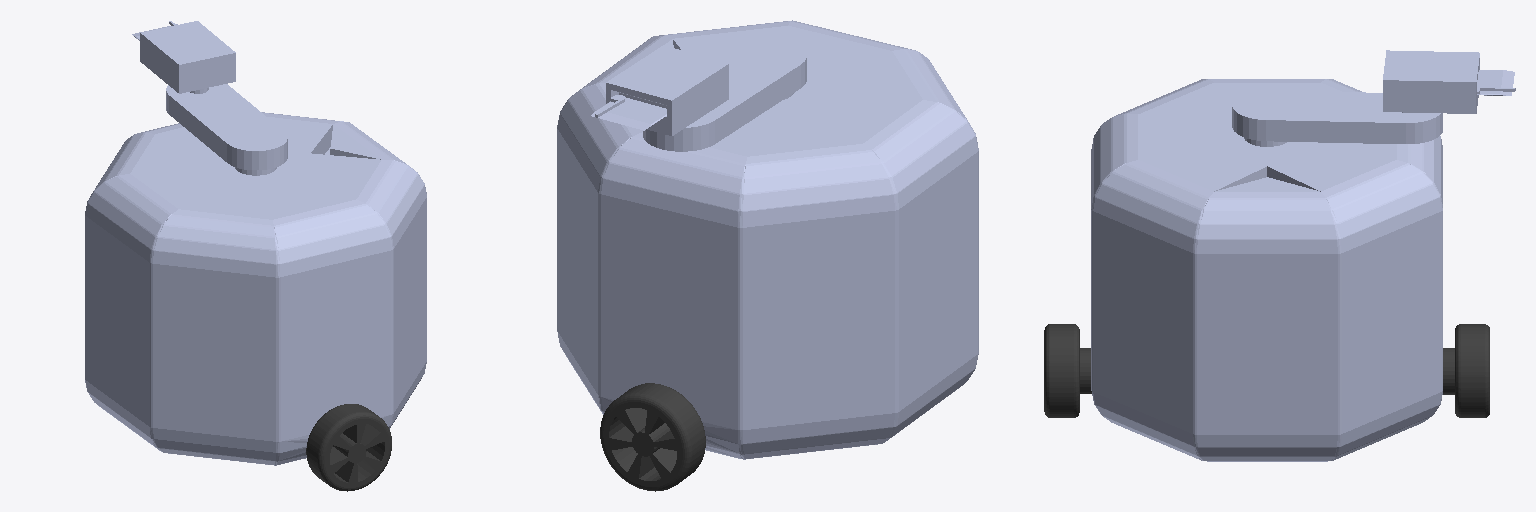
robot.urdf — robo9:
<?xml version="1.0" encoding="utf-8"?>
<!-- This URDF was automatically created by SolidWorks to URDF Exporter! Originally created by [author] ([email redacted]) 
     Commit Version: 1.6.0-4-g7f85cfe  Build Version: 1.6.7995.38578
     For more information, please see http://wiki.ros.org/sw_urdf_exporter -->
<robot
  name="robo9">
  <link name="dummy_link" />

  <joint name="dummy_link_to_base_link" type="fixed">
    <parent link="dummy_link"/>
    <child link="base_link"/>
  </joint>
  <link
    name="base_link">
    <inertial>
      <origin
        xyz="-0.000234166671283786 0 0.341965241299168"
        rpy="0 0 0" />
      <mass
        value="291.564682437976" />
      <inertia
        ixx="20.0527856871514"
        ixy="-7.50635775529426E-06"
        ixz="0.0200068652527846"
        iyy="20.1739356871347"
        iyz="-2.14957033006662E-15"
        izz="21.8510802863288" />
    </inertial>
    <visual>
      <origin
        xyz="0 0 0"
        rpy="0 0 0" />
      <geometry>
        <mesh
          filename="package://robo9/meshes/base_link.STL" />
      </geometry>
      <material
        name="">
        <color
          rgba="0.792156862745098 0.819607843137255 0.933333333333333 1" />
      </material>
    </visual>
    <collision>
      <origin
        xyz="0 0 0"
        rpy="0 0 0" />
      <geometry>
        <mesh
          filename="package://robo9/meshes/base_link.STL" />
      </geometry>
    </collision>
  </link>
  <link
    name="left_wheel">
    <inertial>
      <origin
        xyz="0 -5.55111512312578E-17 -0.896942402108544"
        rpy="0 0 0" />
      <mass
        value="2.42815284027599" />
      <inertia
        ixx="0.00682217388768063"
        ixy="-1.15245136693123E-18"
        ixz="6.54305795555698E-19"
        iyy="0.00682217388768063"
        iyz="1.50075961333382E-19"
        izz="0.0107400873808283" />
    </inertial>
    <visual>
      <origin
        xyz="0 0 0"
        rpy="0 0 0" />
      <geometry>
        <mesh
          filename="package://robo9/meshes/left_wheel.STL" />
      </geometry>
      <material
        name="">
        <color
          rgba="0.298039215686275 0.298039215686275 0.298039215686275 1" />
      </material>
    </visual>
    <collision>
      <origin
        xyz="0 0 0"
        rpy="0 0 0" />
      <geometry>
        <mesh
          filename="package://robo9/meshes/left_wheel.STL" />
      </geometry>
    </collision>
  </link>
  <joint
    name="left_wheel_joint"
    type="continuous">
    <origin
      xyz="0 0.482600000000004 0.1016"
      rpy="-1.5707963267949 0 0" />
    <parent
      link="base_link" />
    <child
      link="left_wheel" />
    <axis
      xyz="0 0 1" />
  </joint>
  <link
    name="right_wheel">
    <inertial>
      <origin
        xyz="-2.22044604925031E-16 0 -0.896942402108544"
        rpy="0 0 0" />
      <mass
        value="2.42815284027599" />
      <inertia
        ixx="0.00682217388768063"
        ixy="-1.88032045455964E-18"
        ixz="-3.31900532483183E-20"
        iyy="0.00682217388768064"
        iyz="-9.58168820167435E-20"
        izz="0.0107400873808283" />
    </inertial>
    <visual>
      <origin
        xyz="0 0 0"
        rpy="0 0 0" />
      <geometry>
        <mesh
          filename="package://robo9/meshes/right_wheel.STL" />
      </geometry>
      <material
        name="">
        <color
          rgba="0.298039215686275 0.298039215686275 0.298039215686275 1" />
      </material>
    </visual>
    <collision>
      <origin
        xyz="0 0 0"
        rpy="0 0 0" />
      <geometry>
        <mesh
          filename="package://robo9/meshes/right_wheel.STL" />
      </geometry>
    </collision>
  </link>
  <joint
    name="right_wheel_joint"
    type="continuous">
    <origin
      xyz="0 -0.482600000000004 0.1016"
      rpy="1.5707963267949 0 0" />
    <parent
      link="base_link" />
    <child
      link="right_wheel" />
    <axis
      xyz="0 0 -1" />
  </joint>
  <link
    name="base_to_first_link">
    <inertial>
      <origin
        xyz="-5.55111512312578E-17 -1.11022302462516E-16 -0.1524"
        rpy="0 0 0" />
      <mass
        value="2.47111103406268" />
      <inertia
        ixx="0.0207254059315664"
        ixy="-1.54905385393866E-19"
        ixz="-1.83677921854158E-34"
        iyy="0.0207254059315664"
        iyz="-6.88468379528296E-20"
        izz="0.00318852398947175" />
    </inertial>
    <visual>
      <origin
        xyz="0 0 0"
        rpy="0 0 0" />
      <geometry>
        <mesh
          filename="package://robo9/meshes/base_to_first_link.STL" />
      </geometry>
      <material
        name="">
        <color
          rgba="0.792156862745098 0.819607843137255 0.933333333333333 1" />
      </material>
    </visual>
    <collision>
      <origin
        xyz="0 0 0"
        rpy="0 0 0" />
      <geometry>
        <mesh
          filename="package://robo9/meshes/base_to_first_link.STL" />
      </geometry>
    </collision>
  </link>
  <joint
    name="base_to_first_link_joint"
    type="fixed">
    <origin
      xyz="0 0 0.7112"
      rpy="0 0 0" />
    <parent
      link="base_link" />
    <child
      link="base_to_first_link" />
    <axis
      xyz="0 0 0" />
  </joint>
  <link
    name="first_link">
    <inertial>
      <origin
        xyz="0.00887202489217992 0.166951784287116 -1.02122346670472"
        rpy="0 0 0" />
      <mass
        value="3.1834408940209" />
      <inertia
        ixx="0.0478820519866207"
        ixy="-0.00218702423761148"
        ixz="-1.49937532359432E-05"
        iyy="0.00684333918252238"
        iyz="-0.000282149101960674"
        izz="0.0528634241141966" />
    </inertial>
    <visual>
      <origin
        xyz="0 0 0"
        rpy="0 0 0" />
      <geometry>
        <mesh
          filename="package://robo9/meshes/first_link.STL" />
      </geometry>
      <material
        name="">
        <color
          rgba="0.792156862745098 0.819607843137255 0.933333333333333 1" />
      </material>
    </visual>
    <collision>
      <origin
        xyz="0 0 0"
        rpy="0 0 0" />
      <geometry>
        <mesh
          filename="package://robo9/meshes/first_link.STL" />
      </geometry>
    </collision>
  </link>
  <joint
    name="first_link_joint"
    type="continuous">
    <origin
      xyz="0 0 1.0236880255875"
      rpy="0 0 0" />
    <parent
      link="base_to_first_link" />
    <child
      link="first_link" />
    <axis
      xyz="0 0 1" />
  </joint>
        <transmission name="trans_first_link">
     <type>transmission_interface/SimpleTransmission</type>
     <joint name="first_link_joint">
       <hardwareInterface>hardware_interface/EffortJointInterface</hardwareInterface>
     </joint>
     <actuator name="first_link_motor">
       <mechanicalReduction>10</mechanicalReduction>
       <hardwareInterface>hardware_interface/EffortJointInterface</hardwareInterface>
    </actuator>
  </transmission>
  <link
    name="second_link">
    <inertial>
      <origin
        xyz="0.00255294857603322 0.0480408165150327 0.00925479847334798"
        rpy="0 0 0" />
      <mass
        value="1.7347084961237" />
      <inertia
        ixx="0.00731696518042928"
        ixy="-0.000136416141636608"
        ixz="9.2876719216566E-06"
        iyy="0.00475716599659306"
        iyz="0.000174773337320167"
        izz="0.0101503487353134" />
    </inertial>
    <visual>
      <origin
        xyz="0 0 0"
        rpy="0 0 0" />
      <geometry>
        <mesh
          filename="package://robo9/meshes/second_link.STL" />
      </geometry>
      <material
        name="">
        <color
          rgba="0.792156862745098 0.819607843137255 0.933333333333333 1" />
      </material>
    </visual>
    <collision>
      <origin
        xyz="0 0 0"
        rpy="0 0 0" />
      <geometry>
        <mesh
          filename="package://robo9/meshes/second_link.STL" />
      </geometry>
    </collision>
  </link>
  <joint
    name="second_link_joint"
    type="fixed">
    <origin
      xyz="0.0161746276486489 0.304370533101395 -0.947488025587499"
      rpy="0 0 0" />
    <parent
      link="first_link" />
    <child
      link="second_link" />
    <axis
      xyz="0 0 0" />
  </joint>
  <link
    name="end_effector_link">
    <inertial>
      <origin
        xyz="-8.11305050484323E-05 -0.00702550005762381 0.0943050421661527"
        rpy="0 0 0" />
      <mass
        value="0.287447503704032" />
      <inertia
        ixx="0.00103661826081033"
        ixy="3.87126226374111E-10"
        ixz="1.97620720820864E-06"
        iyy="0.0014160265512004"
        iyz="2.00867587917765E-05"
        izz="0.000387513820386799" />
    </inertial>
    <visual>
      <origin
        xyz="0 0 0"
        rpy="0 0 0" />
      <geometry>
        <mesh
          filename="package://robo9/meshes/end_effector_link.STL" />
      </geometry>
      <material
        name="">
        <color
          rgba="0.792156862745098 0.819607843137255 0.933333333333333 1" />
      </material>
    </visual>
    <collision>
      <origin
        xyz="0 0 0"
        rpy="0 0 0" />
      <geometry>
        <mesh
          filename="package://robo9/meshes/end_effector_link.STL" />
      </geometry>
    </collision>
  </link>
  <joint
    name="end_effector_joint"
    type="prismatic">
    <origin
      xyz="-0.0013479 -0.025364 0.0254"
      rpy="1.5708 0 3.0885" />
    <parent
      link="second_link" />
    <child
      link="end_effector_link" />
    <axis
      xyz="0 0 1" />
    <limit
      lower="0"
      upper="0.254"
      effort="100"
      velocity="100" />
  </joint>
          <transmission name="trans_end_effector_link">
     <type>transmission_interface/SimpleTransmission</type>
     <joint name="end_effector_joint">
       <hardwareInterface>hardware_interface/EffortJointInterface</hardwareInterface>
     </joint>
     <actuator name="end_effector_motor">
       <mechanicalReduction>10</mechanicalReduction>
       <hardwareInterface>hardware_interface/EffortJointInterface</hardwareInterface>
    </actuator>
  </transmission>
  <link
    name="tray_diffusor">
    <inertial>
      <origin
        xyz="-0.0259895460961588 -0.00224101216839243 0.00327376150152037"
        rpy="0 0 0" />
      <mass
        value="0.620637961492778" />
      <inertia
        ixx="2.4803545805323E-07"
        ixy="-2.30126990196352E-07"
        ixz="-1.6086888268435E-08"
        iyy="5.52745746563034E-06"
        iyz="-1.35859441652098E-09"
        izz="5.73338557318217E-06" />
    </inertial>
    <visual>
      <origin
        xyz="0 0 0"
        rpy="0 0 0" />
      <geometry>
        <mesh
          filename="package://robo9/meshes/tray_diffusor.STL" />
      </geometry>
      <material
        name="">
        <color
          rgba="0.792156862745098 0.819607843137255 0.933333333333333 1" />
      </material>
    </visual>
    <collision>
      <origin
        xyz="0 0 0"
        rpy="0 0 0" />
      <geometry>
        <mesh
          filename="package://robo9/meshes/tray_diffusor.STL" />
      </geometry>
    </collision>
  </link>
  <joint
    name="tray_diffusor_joint"
    type="revolute">
    <origin
      xyz="-0.050544 -0.00889 0.17146"
      rpy="1.5708 -0.053091 3.1416" />
    <parent
      link="end_effector_link" />
    <child
      link="tray_diffusor" />
    <axis
      xyz="0 0 1" />
    <limit
      lower="3.14"
      upper="6.28"
      effort="100"
      velocity="100" />
  </joint>
        <transmission name="trans_tray_diffusor_link">
     <type>transmission_interface/SimpleTransmission</type>
     <joint name="tray_diffusor_joint">
       <hardwareInterface>hardware_interface/EffortJointInterface</hardwareInterface>
     </joint>
     <actuator name="tray_diffusor_motor">
       <mechanicalReduction>10</mechanicalReduction>
       <hardwareInterface>hardware_interface/EffortJointInterface</hardwareInterface>
    </actuator>
  </transmission>
</robot>

--- What the picture shows (computed from the rendered views, not written in the file) ---
The picture shows the robot from 3 angles, left to right: view 1: azimuth 30°, elevation 25°; view 2: azimuth 150°, elevation 25°; view 3: azimuth 270°, elevation 25°; orthographic projection.
Robot: robo9 — 9 links, 8 joints (1 revolute, 3 continuous, 1 prismatic, 3 fixed); root link dummy_link; default pose: all joints at 0 but 1 set to mid-range because 0 is outside their limits (tray_diffusor_joint = 4.71).
Visible links, largest first — view 1: base_link, first_link, left_wheel, second_link; view 2: base_link, right_wheel, first_link, second_link, end_effector_link; view 3: base_link, first_link, second_link, left_wheel, right_wheel, end_effector_link.
Boxes of the visible links, bbox=[...] form: base_link: bbox=[85, 112, 426, 465]; first_link: bbox=[166, 84, 287, 169]; left_wheel: bbox=[306, 404, 391, 491]; second_link: bbox=[140, 21, 235, 93]; base_link: bbox=[557, 20, 978, 459]; right_wheel: bbox=[600, 383, 705, 491]; first_link: bbox=[643, 39, 806, 151]; second_link: bbox=[606, 45, 728, 135]; end_effector_link: bbox=[591, 92, 666, 130]; base_link: bbox=[1091, 79, 1442, 461]; first_link: bbox=[1232, 90, 1442, 143]; second_link: bbox=[1383, 50, 1479, 113]; left_wheel: bbox=[1044, 324, 1091, 417]; right_wheel: bbox=[1443, 324, 1489, 417]; end_effector_link: bbox=[1477, 70, 1514, 95].
Bounding box of the posed robot: 0.762 × 1.02 × 0.8382 m (x, y, z).
Meshes: 8 distinct files referenced, 8 mesh visuals loaded (8 binary STL).